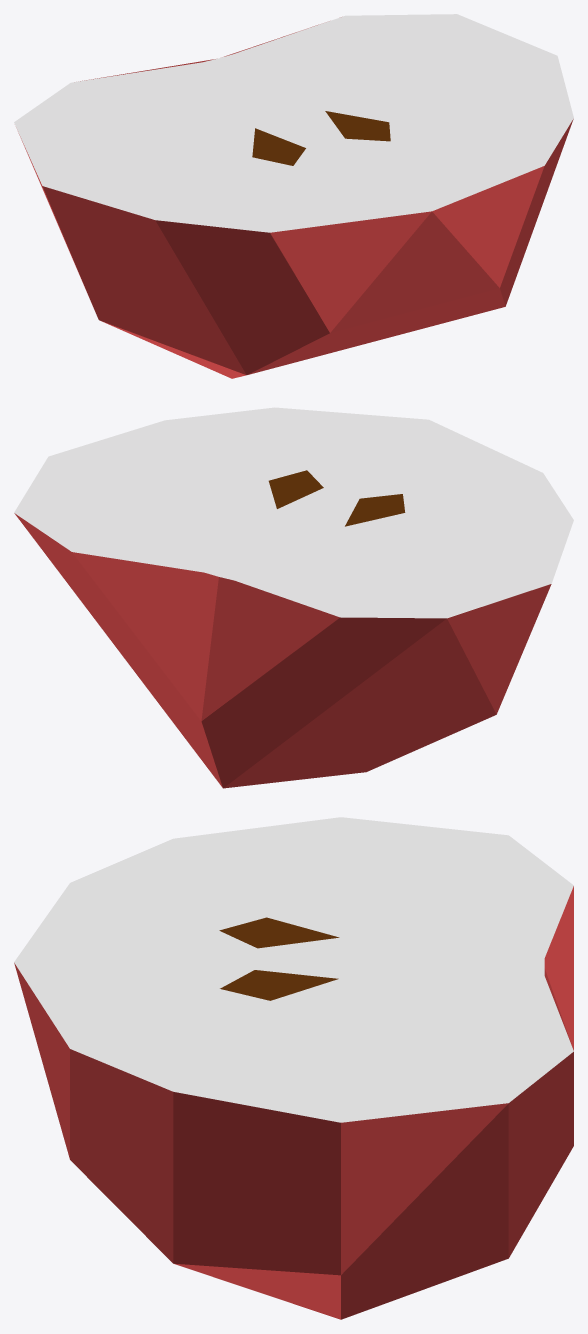
Rendered from applered02.gltf.
3 views of the same model, one above another, from view 1: azimuth 30°, elevation 25°; view 2: azimuth 150°, elevation 25°; view 3: azimuth 270°, elevation 25° (orthographic). The views are drawn at different scales.
Visible parts, largest first — view 1: Icosphere; view 2: Icosphere; view 3: Icosphere.
Part boxes in pixels (x1=…): Icosphere: x1=14, y1=14, x2=573, y2=378; Icosphere: x1=14, y1=407, x2=573, y2=788; Icosphere: x1=14, y1=817, x2=573, y2=1319.
Size of the model in its own units: 0.0974 by 0.0447 by 0.0741.
Materials: 1 (1 with a texture image).
